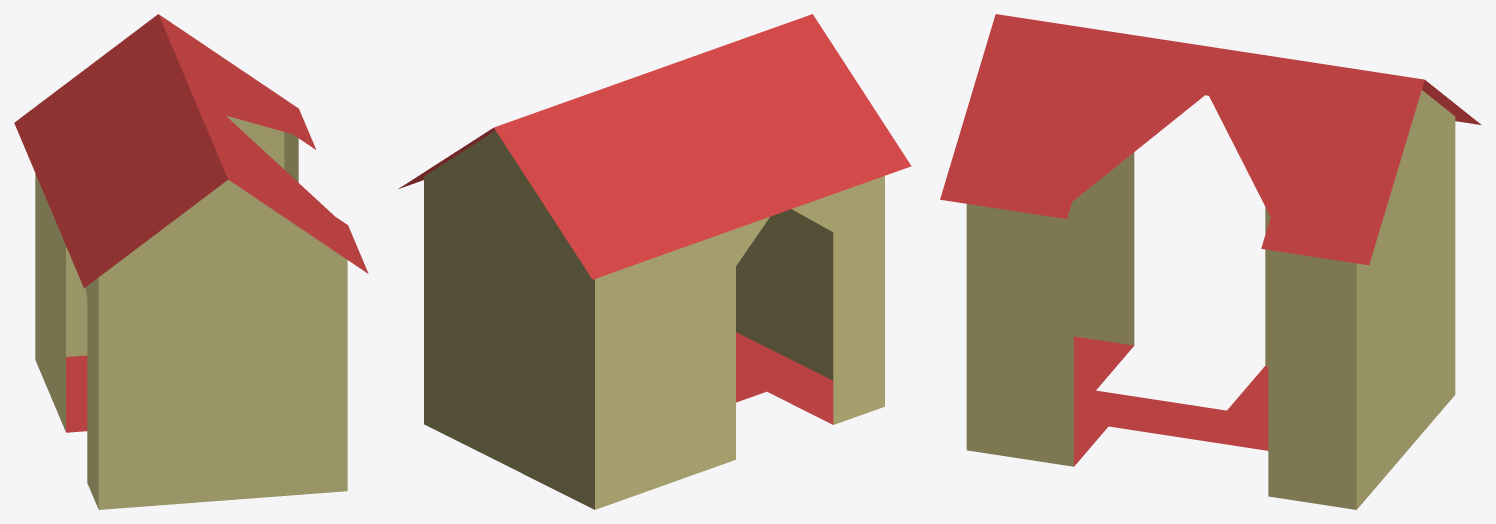
3 views of the same model, side by side, from view 1: azimuth 30°, elevation 25°; view 2: azimuth 150°, elevation 25°; view 3: azimuth 270°, elevation 25° (orthographic). The views are drawn at different scales.
Size of the model in its own units: 16.88 by 19.59 by 15.01.
